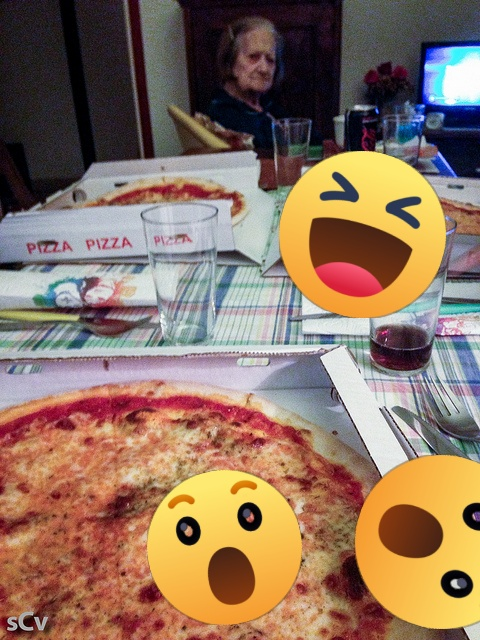haha: (279, 151, 446, 318)
wow: (147, 470, 302, 625), (355, 455, 480, 629)
